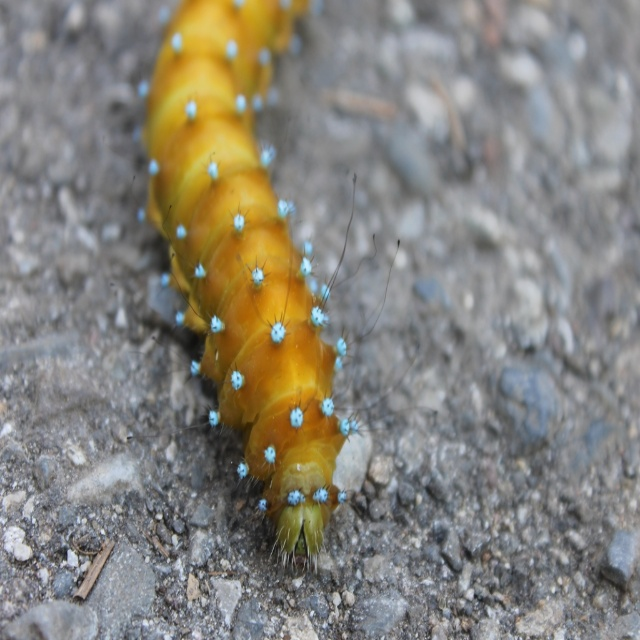Caterpillar: (109, 0, 440, 575)
